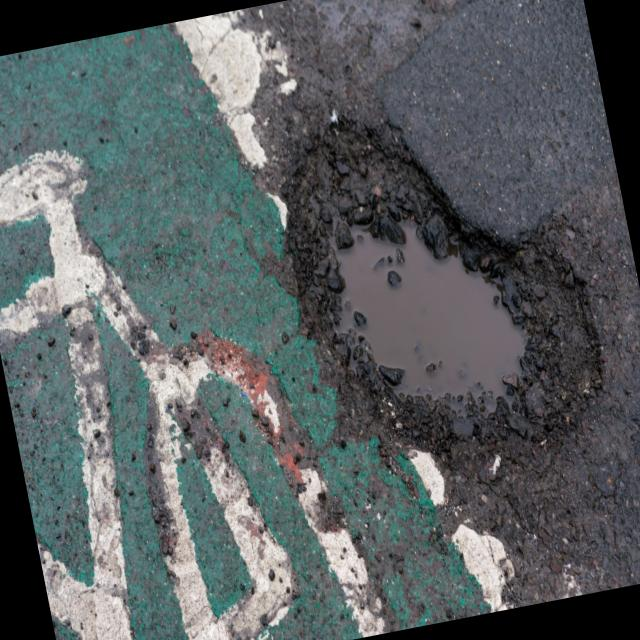Potholes: (234, 43, 632, 522)
